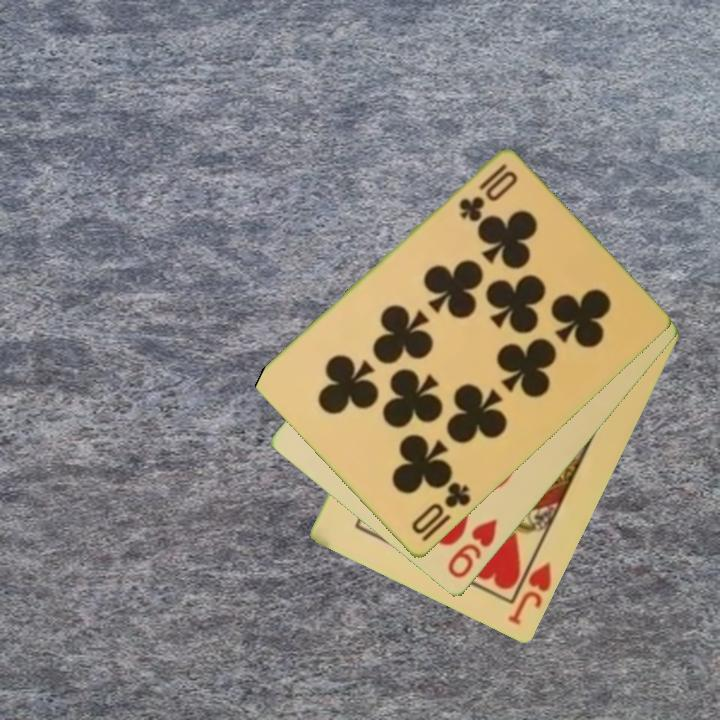10c: (408, 479, 474, 538), (455, 160, 510, 225)
9h: (443, 516, 501, 582)
Jh: (504, 558, 555, 629)
